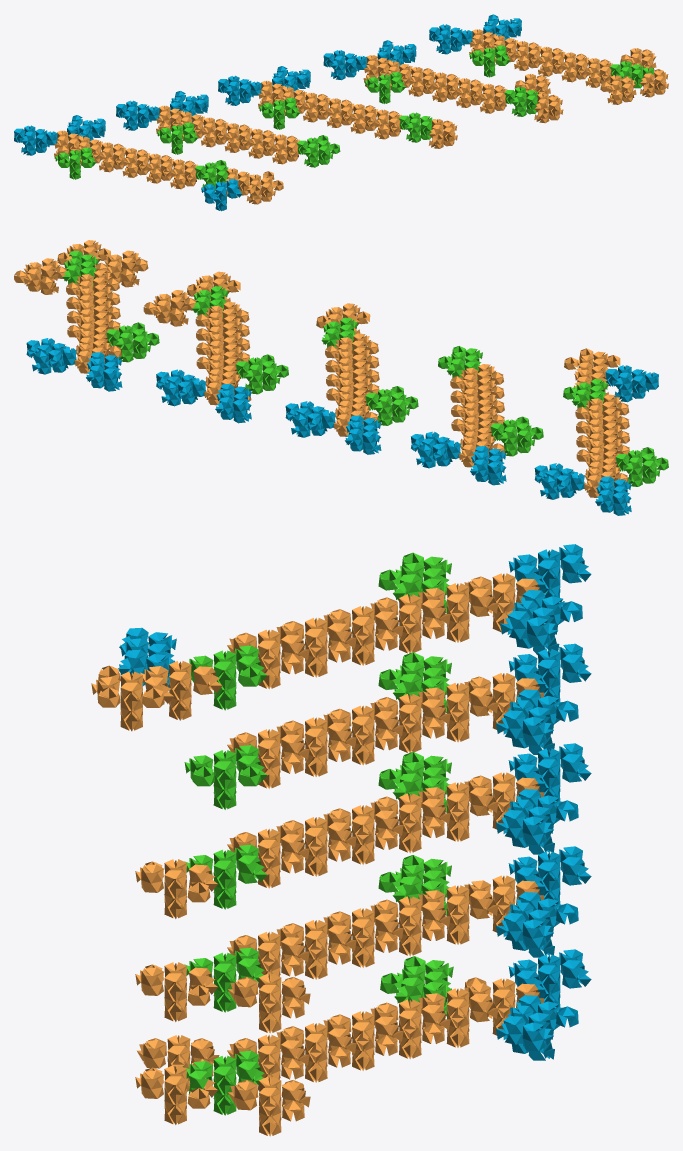
File: 11_lysine_mods.fbx
3 renders of one model, top to bottom at view 1: azimuth 30°, elevation 25°; view 2: azimuth 150°, elevation 25°; view 3: azimuth 270°, elevation 25°, orthographic. The views are drawn at different scales.
Parts seen in each view (by area): view 1: MeshBody1873, MeshBody1860, MeshBody1869, MeshBody1867, MeshBody1863, MeshBody1862, MeshBody1857, MeshBody1871, MeshBody1868, MeshBody1861, MeshBody1865, MeshBody1866 (+4 smaller); view 2: MeshBody1873, MeshBody1869, MeshBody1860, MeshBody1867, MeshBody1863, MeshBody1857, MeshBody1871, MeshBody1861, MeshBody1865, MeshBody1868, MeshBody1862, MeshBody1858 (+4 smaller); view 3: MeshBody1873, MeshBody1869, MeshBody1860, MeshBody1867, MeshBody1863, MeshBody1871, MeshBody1865, MeshBody1868, MeshBody1861, MeshBody1857, MeshBody1862, MeshBody1872 (+4 smaller).
Boxes of the visible parts, bbox=[...] form: MeshBody1873: bbox=[469, 29, 668, 104]; MeshBody1860: bbox=[54, 130, 283, 204]; MeshBody1869: bbox=[363, 55, 563, 123]; MeshBody1867: bbox=[258, 81, 457, 148]; MeshBody1863: bbox=[156, 105, 299, 164]; MeshBody1862: bbox=[157, 122, 340, 167]; MeshBody1857: bbox=[14, 115, 105, 155]; MeshBody1871: bbox=[429, 14, 521, 54]; MeshBody1868: bbox=[323, 40, 416, 80]; MeshBody1861: bbox=[116, 91, 208, 130]; MeshBody1865: bbox=[218, 66, 310, 105]; MeshBody1866: bbox=[259, 97, 434, 142]; MeshBody1873: bbox=[14, 240, 148, 373]; MeshBody1869: bbox=[143, 271, 251, 405]; MeshBody1860: bbox=[564, 348, 629, 497]; MeshBody1867: bbox=[316, 303, 379, 436]; MeshBody1863: bbox=[450, 364, 504, 467]; MeshBody1857: bbox=[534, 463, 631, 515]; MeshBody1871: bbox=[26, 338, 122, 391]; MeshBody1861: bbox=[411, 431, 506, 485]; MeshBody1865: bbox=[285, 401, 381, 454]; MeshBody1868: bbox=[156, 369, 251, 423]; MeshBody1862: bbox=[438, 346, 543, 456]; MeshBody1858: bbox=[563, 378, 668, 486]; MeshBody1873: bbox=[135, 977, 544, 1136]; MeshBody1869: bbox=[135, 875, 544, 1033]; MeshBody1860: bbox=[91, 573, 544, 731]; MeshBody1867: bbox=[135, 772, 544, 918]; MeshBody1863: bbox=[227, 673, 544, 788]; MeshBody1871: bbox=[496, 949, 591, 1060]; MeshBody1865: bbox=[496, 743, 591, 854]; MeshBody1868: bbox=[496, 846, 591, 957]; MeshBody1861: bbox=[496, 643, 591, 754]; MeshBody1857: bbox=[500, 544, 591, 655]; MeshBody1862: bbox=[184, 652, 451, 809]; MeshBody1872: bbox=[184, 956, 453, 1115].
Size of the model in its own units: 31184 by 1244 by 11903.
